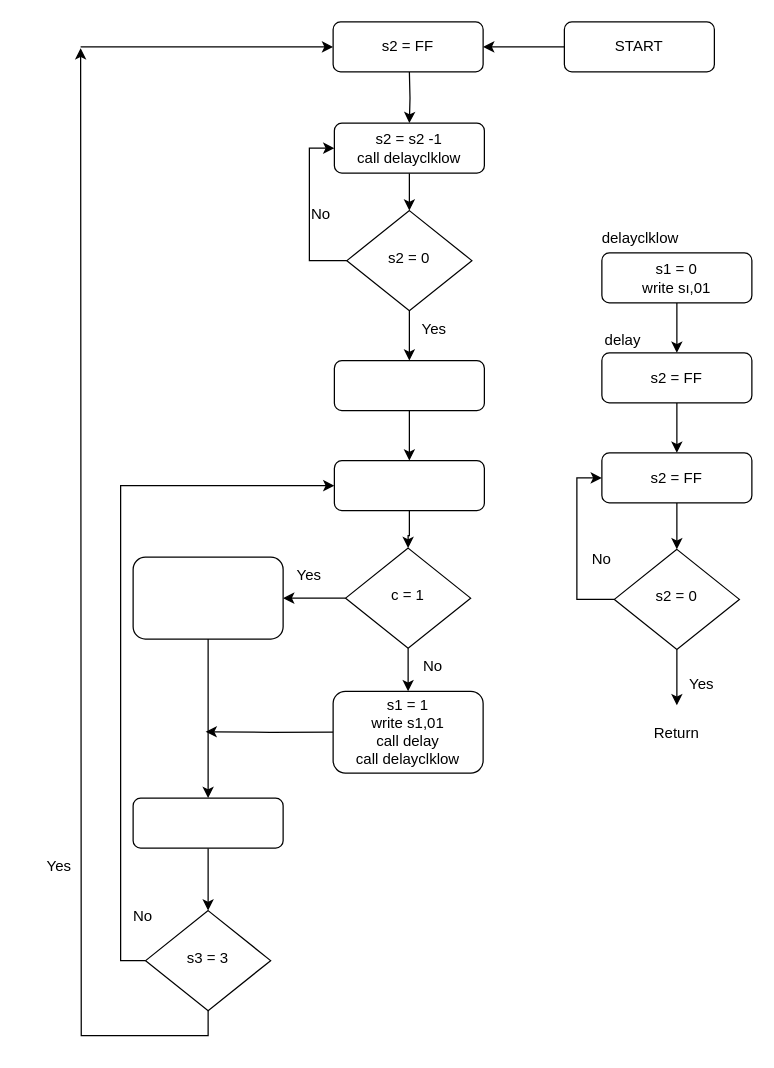
Image size: 774x1068. Some labels were removed from this diagram. Here are the shapes that lost their labels. From the top down, the centre of each, then its label:
point 408,385: s3 = 8 s1 = 0
point 408,485: s1 = 0 SR0 s0
point 207,597: s1 = 3 write s1,01 call delay call delayclklow
point 207,822: s3 = s3 - 1
